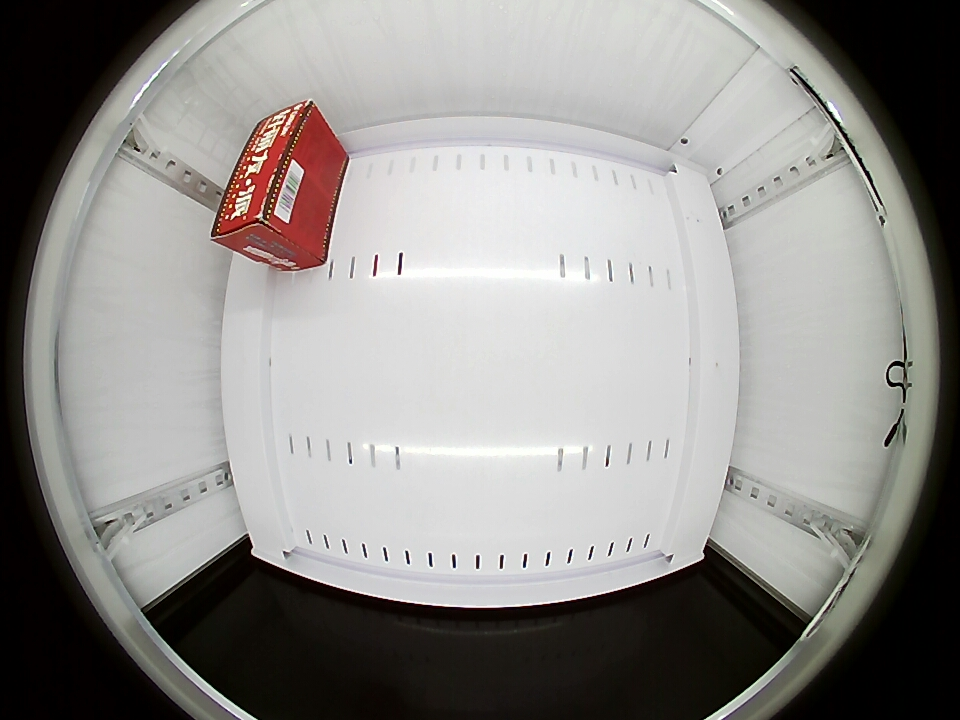haoliyou: (210, 98, 330, 259)
